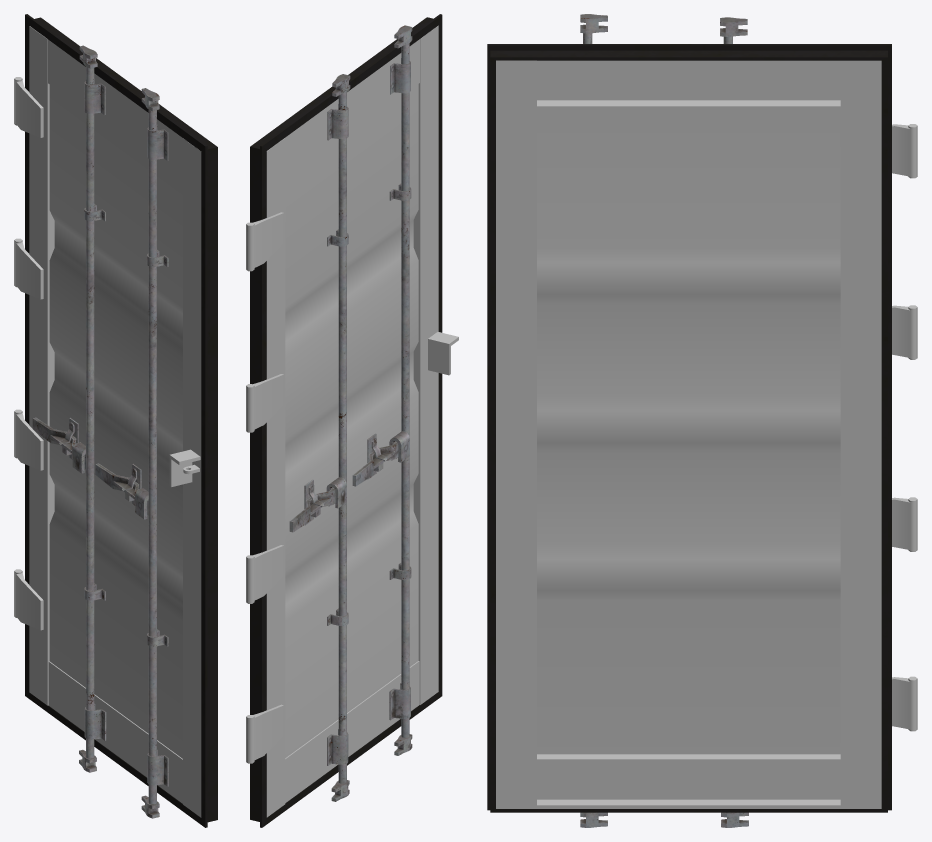
Rendered from Container_Door_02a_snaps011.fbx.
3 views of the same model, side by side, from view 1: azimuth 30°, elevation 25°; view 2: azimuth 150°, elevation 25°; view 3: azimuth 270°, elevation 25° (orthographic). The views are drawn at different scales.
Visible parts, largest first — view 1: Container_Door_02a_snaps011_LOD0; view 2: Container_Door_02a_snaps011_LOD0; view 3: Container_Door_02a_snaps011_LOD0.
Part boxes in pixels (bbox=[...]): Container_Door_02a_snaps011_LOD0: bbox=[14, 14, 217, 827]; Container_Door_02a_snaps011_LOD0: bbox=[246, 14, 458, 827]; Container_Door_02a_snaps011_LOD0: bbox=[487, 14, 917, 827].
Size of what is drawn, in the model's own units: 12.29 by 236 by 114.
